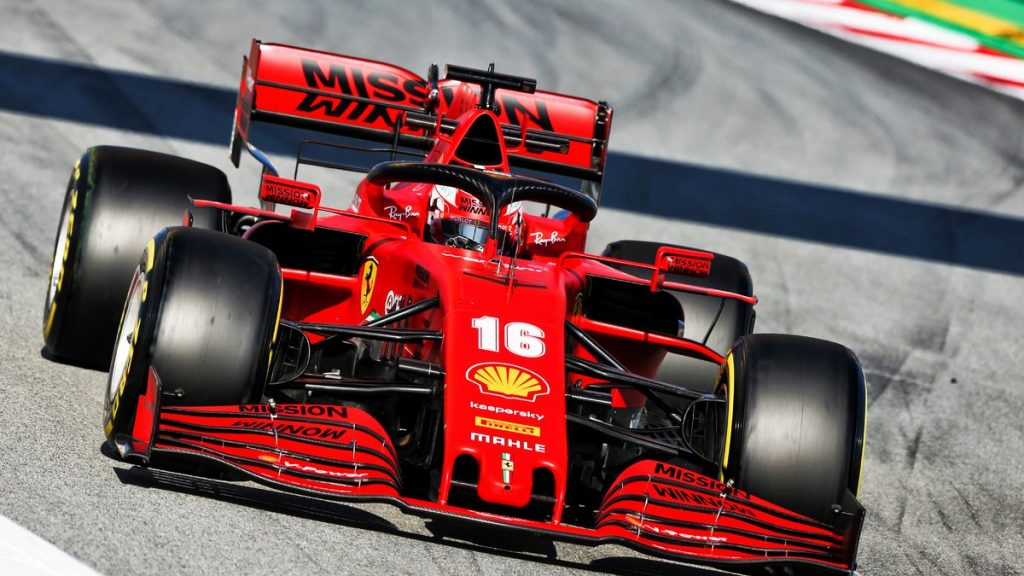Bobsleigh: (35, 38, 865, 576)
